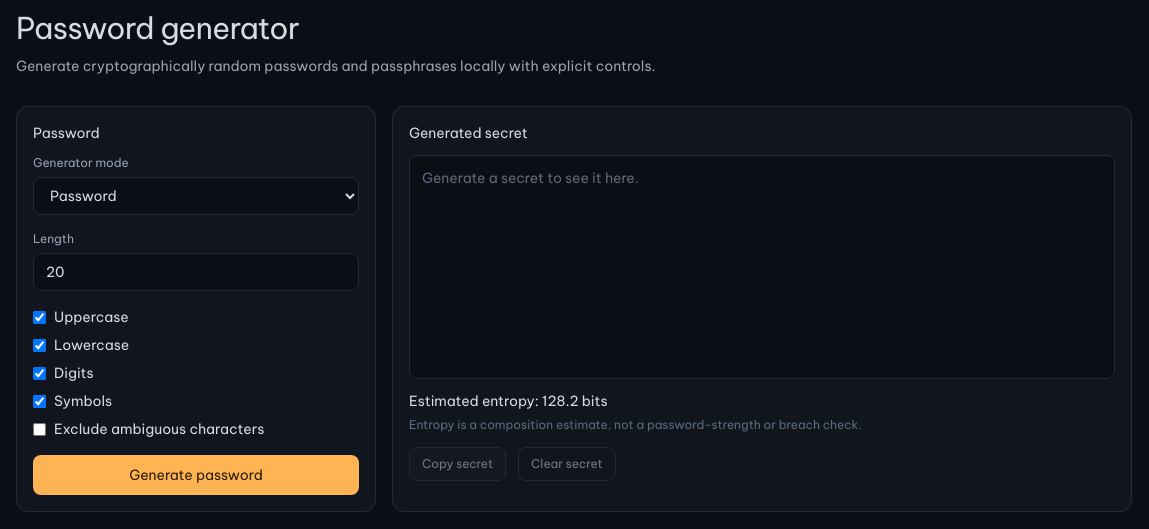
Test: Password Generator tool › clears a generated secret when its generation options change
Step 1. Click the button "Generate password" → click(196, 475), box x1=33 y1=455 x2=359 y2=495
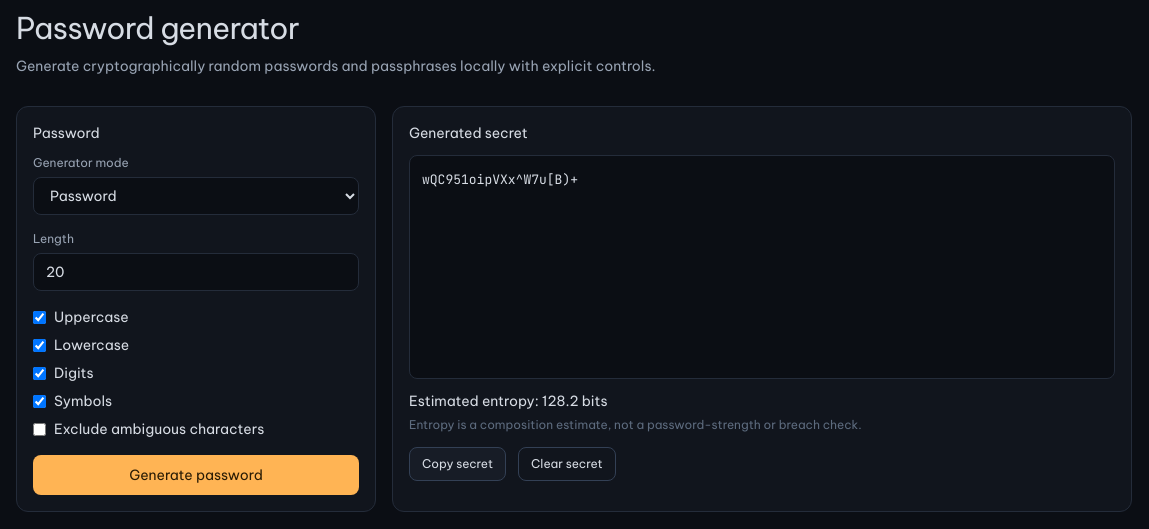
Now the button "Copy secret" is enabled, box x1=409 y1=447 x2=506 y2=481
Step 2. Replace the text in the number field labelled "Length" with "24" → (196, 272), box x1=33 y1=253 x2=359 y2=291
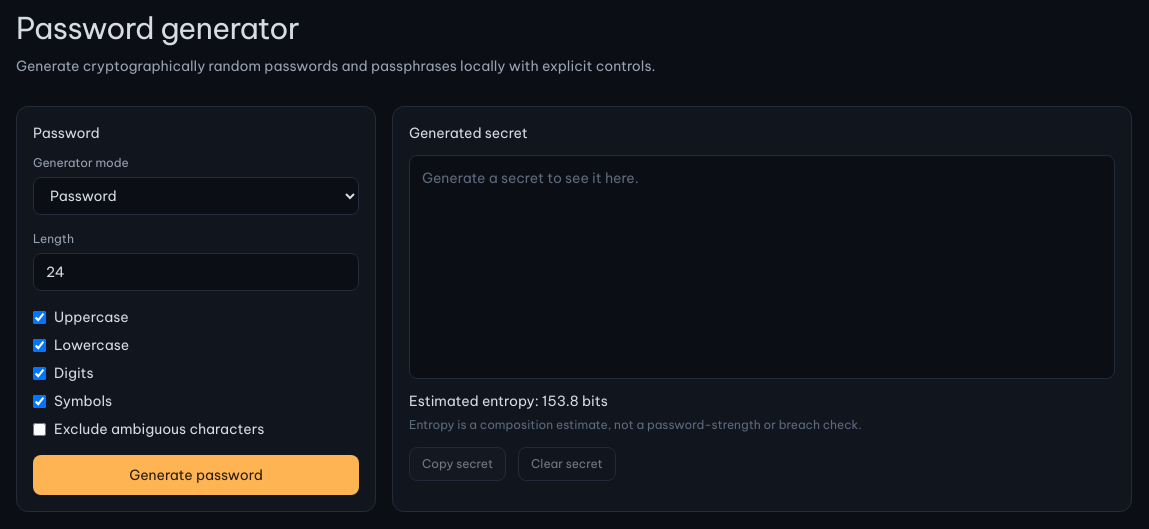
Now the button "Copy secret" is disabled, box x1=409 y1=447 x2=506 y2=481
Now the text "Generate a secret to see it here." is shown, box x1=422 y1=169 x2=639 y2=187
